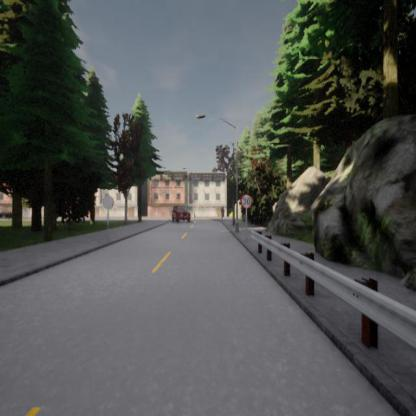traffic_sign_30: (241, 194, 252, 208)
vehicle: (172, 207, 191, 224)
